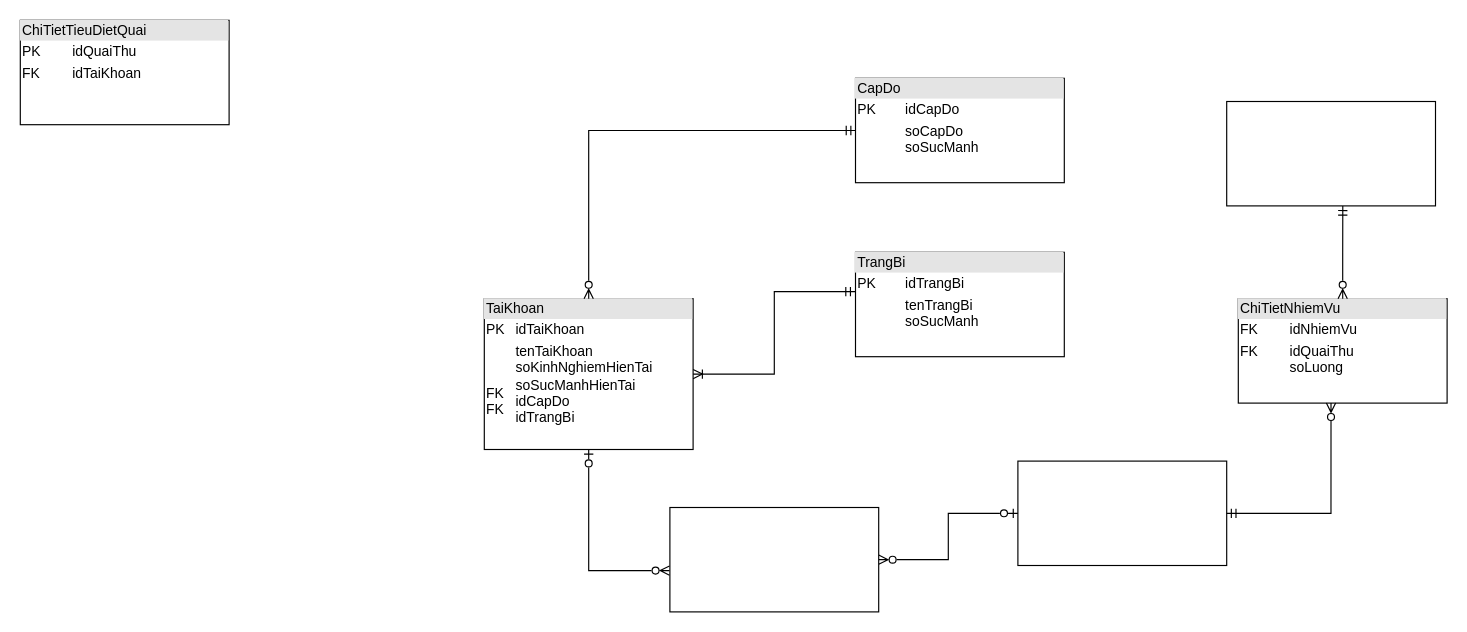
Image size: 1467x632. Some labels were removed from this diagram. The centre of each missing label's shape, as x and y in pixels:
"LichSuNhiemVu PK idNhiemVu FK idTaiKhoan" belongs at point 774,559.
"NhiemVu PK idNhiemVu tenNhiemVu Mota" belongs at point 1122,513.
"QuaiThu PK idQuaiThu tenQuaiThu mauQuaiThu" belongs at point 1331,153.
